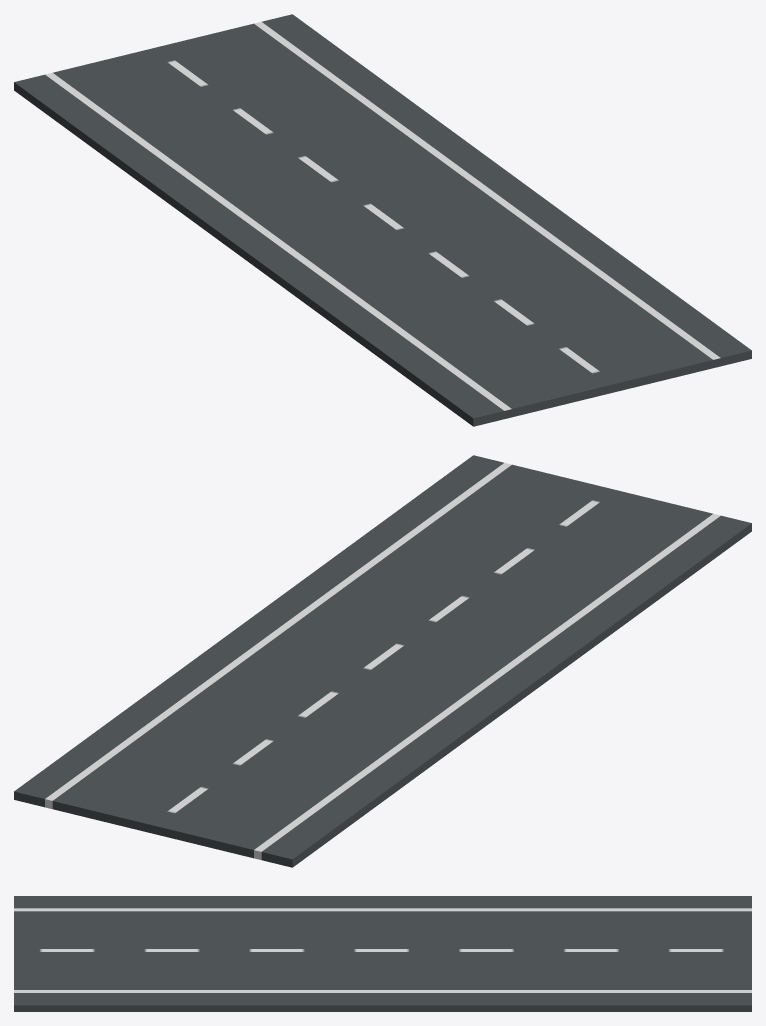
Rendered from StreetsFixed.gltf.
3 renders of one model, top to bottom at view 1: azimuth 30°, elevation 25°; view 2: azimuth 150°, elevation 25°; view 3: azimuth 270°, elevation 25°, orthographic. The views are drawn at different scales.
Parts seen in each view (by area): view 1: Straight; view 2: Straight; view 3: Straight.
Part boxes in pixels (box(x1,y1,x2,y2)): Straight: box(14, 14, 751, 426); Straight: box(14, 455, 751, 867); Straight: box(14, 896, 751, 1011).
Bounding box in the file's own units: 7 × 0.2 × 20.
3 materials, 1 textured.
